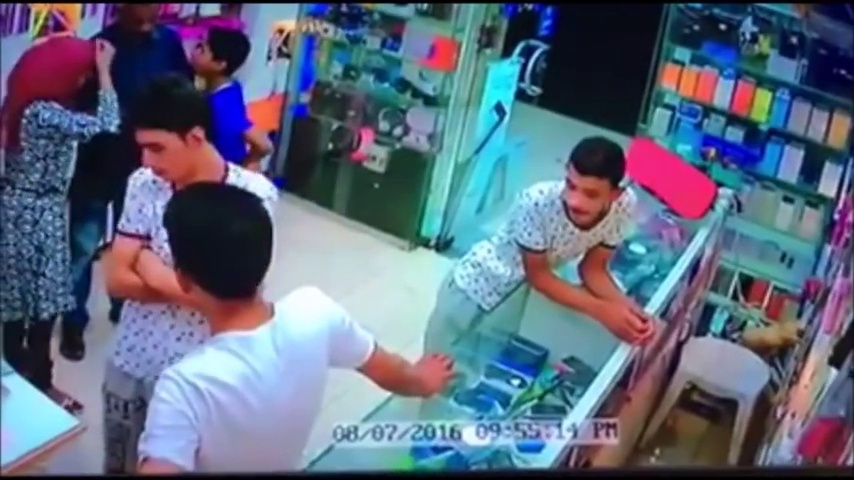face: (130, 130, 190, 183), (560, 170, 614, 227), (191, 37, 219, 76)
